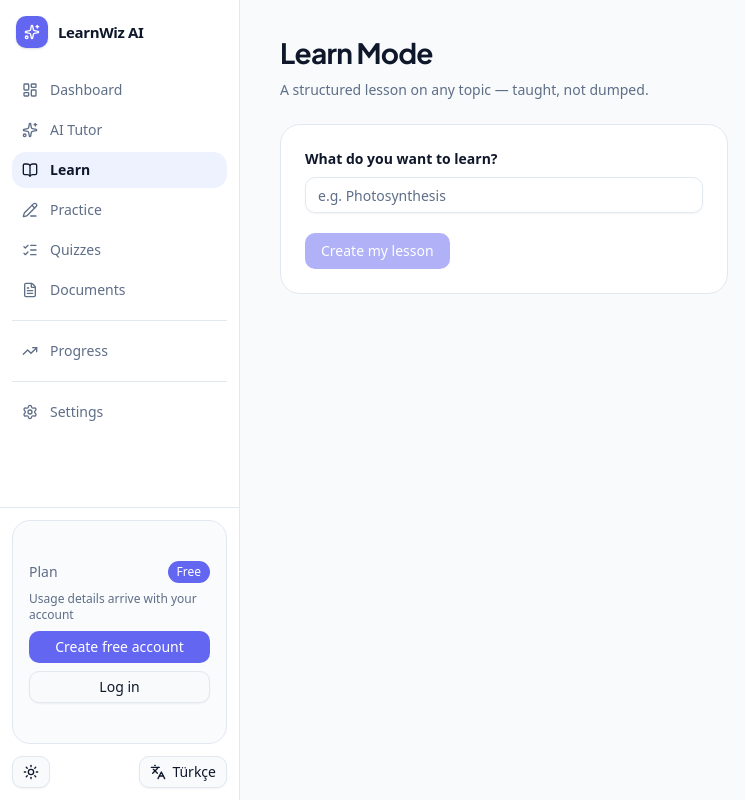
Test: LearnPage staged feedback › shows staged progress copy while the lesson is being generated
Step 1. Type "Gravity" into the field labelled "What do you want to learn?" → (504, 195), box [305, 177, 703, 213]
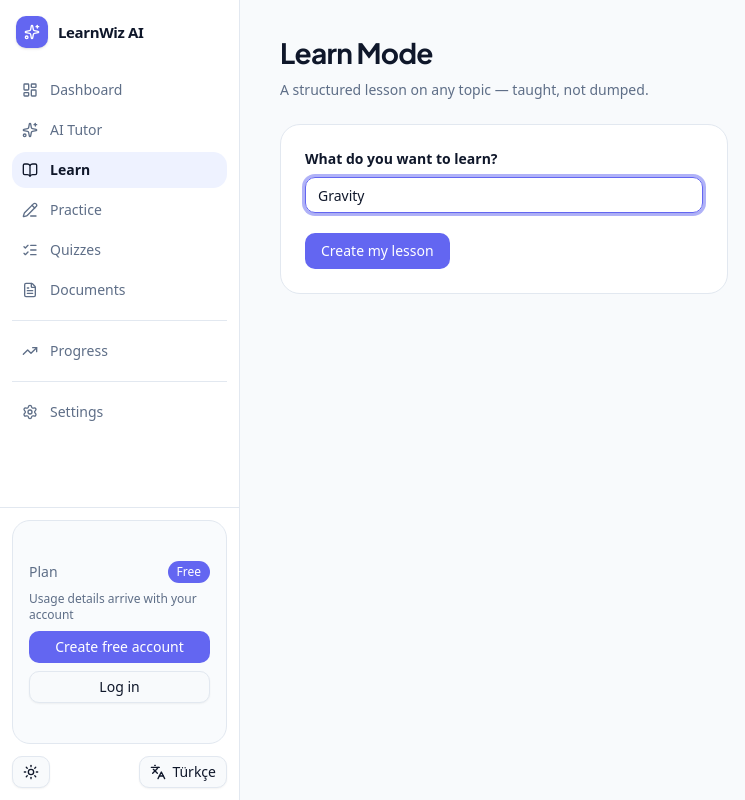
Step 2. Click the button "Create my lesson" → (377, 251), box [305, 233, 450, 269]
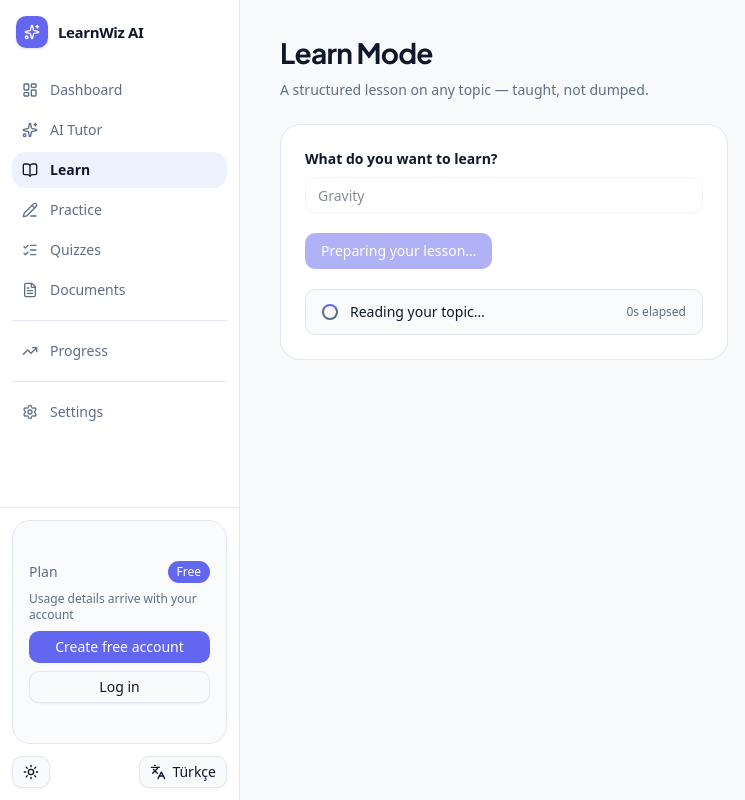
Check: the text "Reading your topic…" is shown, box [350, 302, 485, 322]
Check: the message "Reading your topic… 0s elapsed" is shown, box [305, 289, 703, 335]
